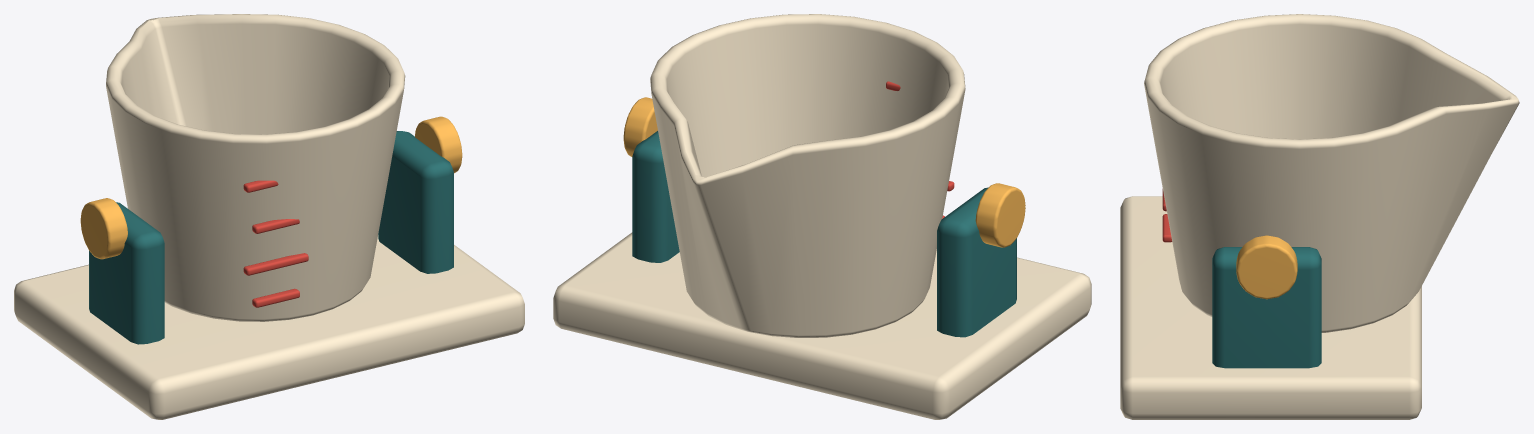
File: A13_TippingCup.fbx
3 renders of one model, left to right at view 1: azimuth 30°, elevation 25°; view 2: azimuth 150°, elevation 25°; view 3: azimuth 270°, elevation 25°, orthographic. The views are drawn at different scales.
Parts seen in each view (by area): view 1: Open vanilla cup, Cream foot, Petrol ear 1, Petrol ear -1, Axle cap -1, Axle cap 1, Tomato measure marker 1, Tomato measure marker 0; view 2: Open vanilla cup, Cream foot, Petrol ear -1, Petrol ear 1, Axle cap -1, Axle cap 1; view 3: Open vanilla cup, Cream foot, Petrol ear 1, Axle cap 1.
Part boxes in pixels (<box>): Open vanilla cup: <box>106,14,405,321</box>; Cream foot: <box>14,235,524,419</box>; Petrol ear 1: <box>378,131,453,273</box>; Petrol ear -1: <box>89,202,164,344</box>; Axle cap -1: <box>80,198,127,259</box>; Axle cap 1: <box>415,116,462,173</box>; Tomato measure marker 1: <box>243,253,308,275</box>; Tomato measure marker 0: <box>252,288,299,307</box>; Open vanilla cup: <box>650,14,965,337</box>; Cream foot: <box>553,232,1091,419</box>; Petrol ear -1: <box>937,187,1016,337</box>; Petrol ear 1: <box>632,131,679,262</box>; Axle cap -1: <box>975,183,1025,247</box>; Axle cap 1: <box>623,97,657,156</box>; Open vanilla cup: <box>1144,14,1519,332</box>; Cream foot: <box>1120,196,1421,419</box>; Petrol ear 1: <box>1212,247,1321,368</box>; Axle cap 1: <box>1236,235,1297,299</box>.
Size of what is drawn, in the model's own units: 0.218 by 0.1345 by 0.1934.
